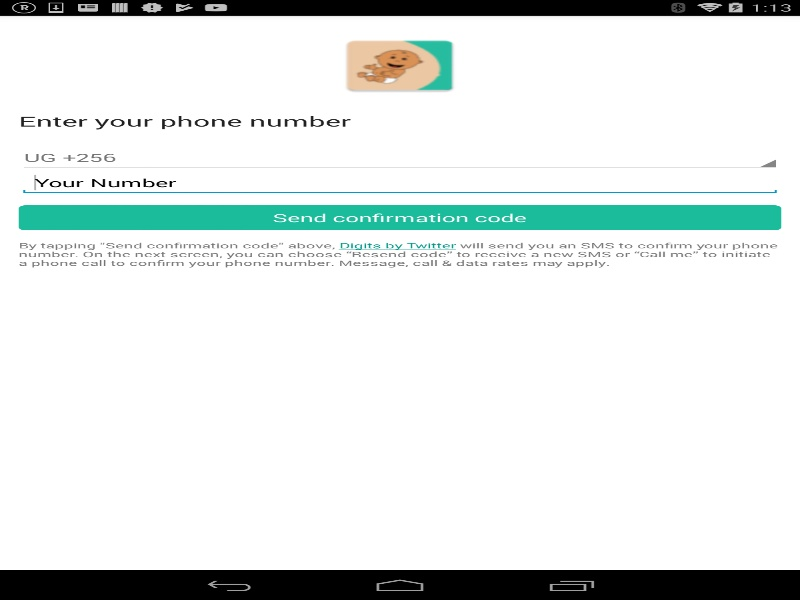Input: (18, 170, 781, 195)
